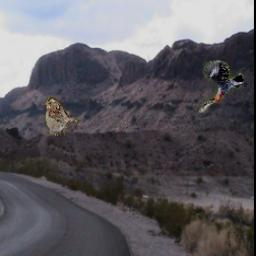Sparrow: (44, 96, 80, 136)
Woodpecker: (199, 60, 244, 113)
